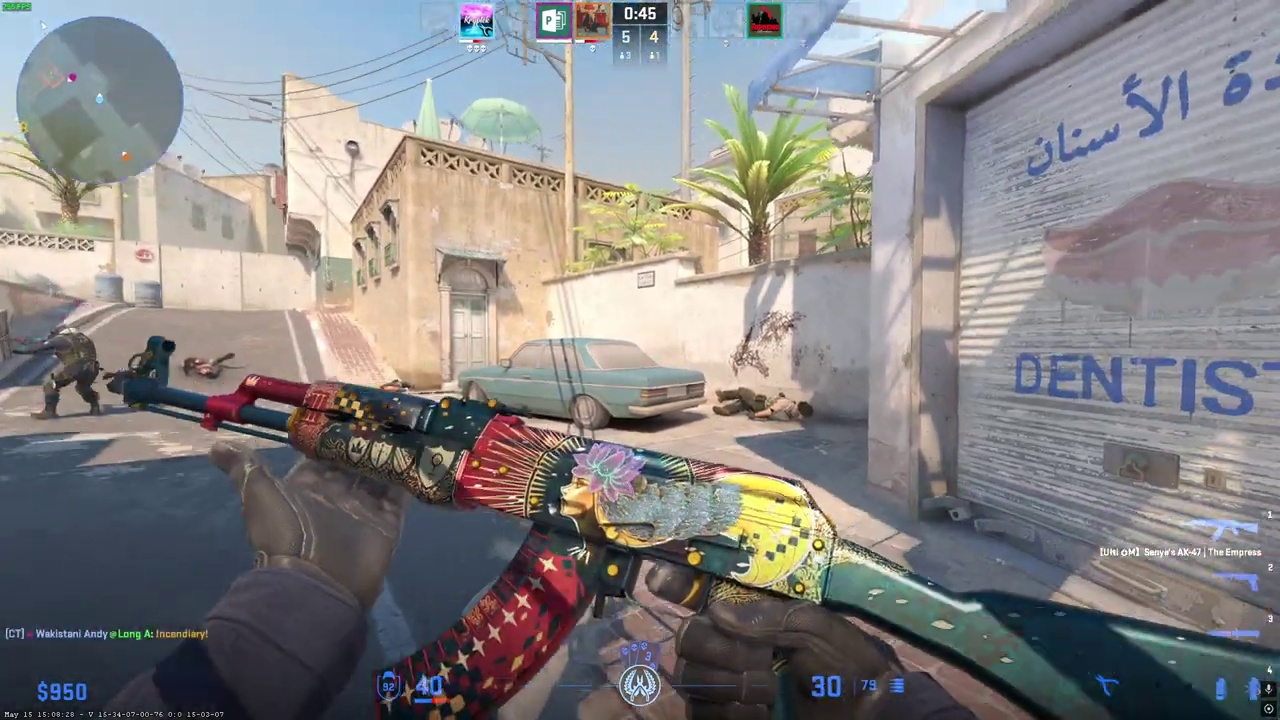CT: (29, 322, 99, 419)
